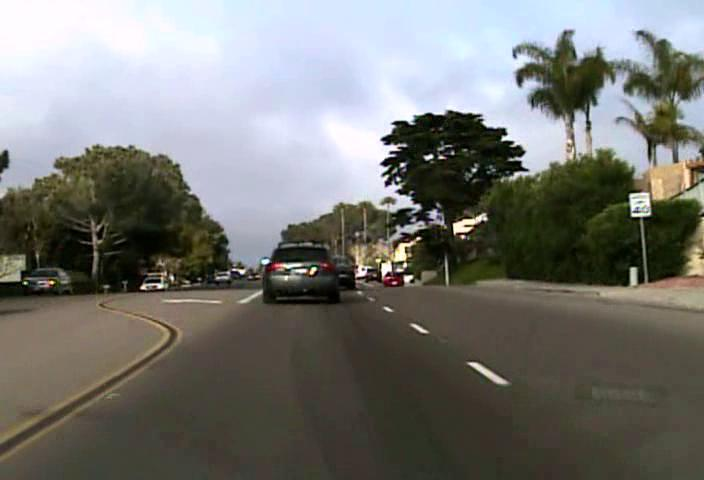speedLimit40: (629, 191, 652, 218)
